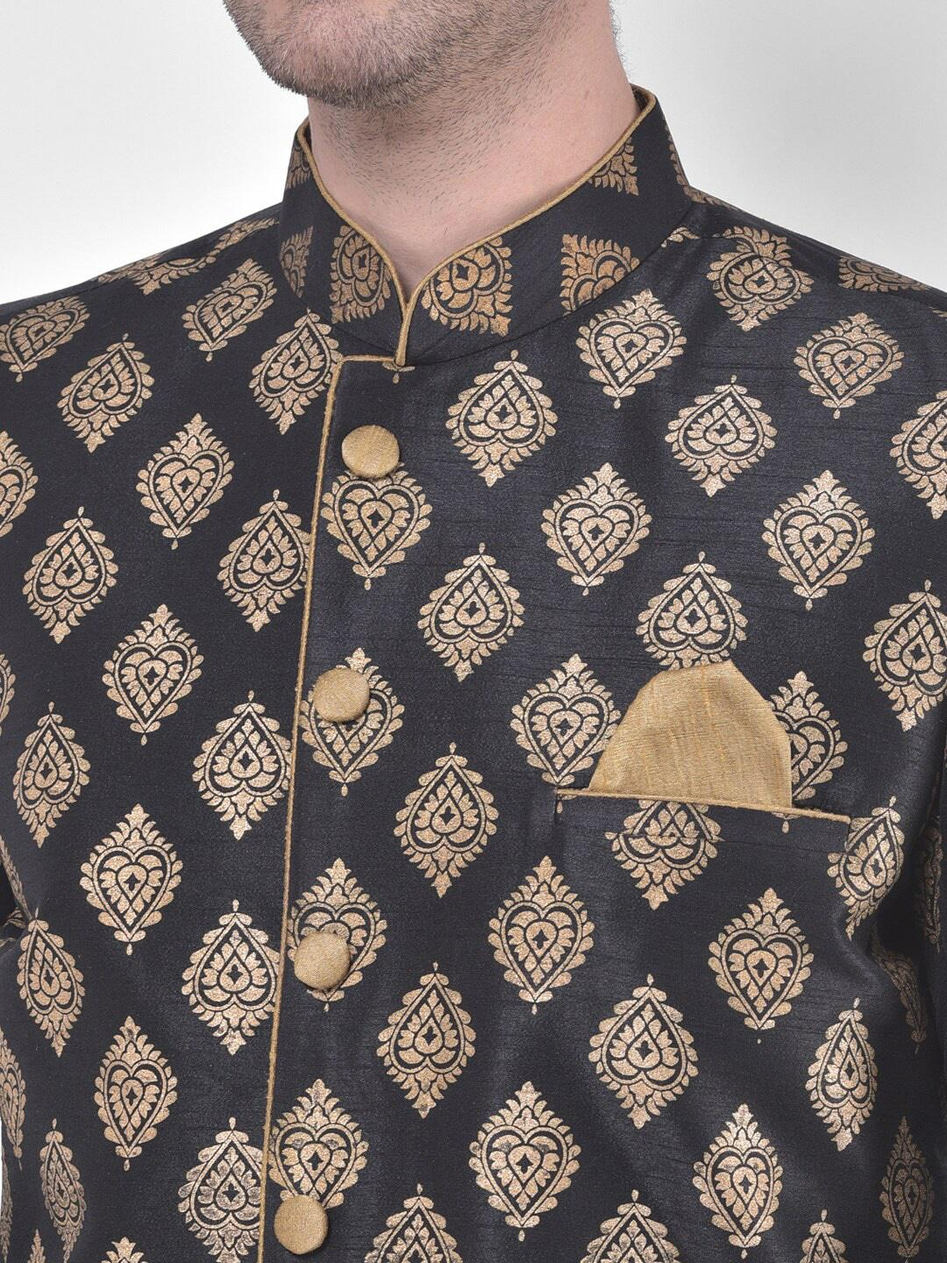Design Sherwani: (1, 91, 946, 1260)
